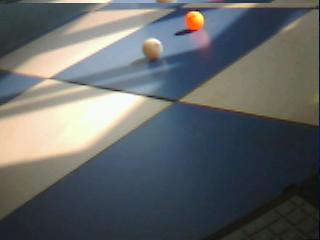oball: (185, 11, 205, 31)
